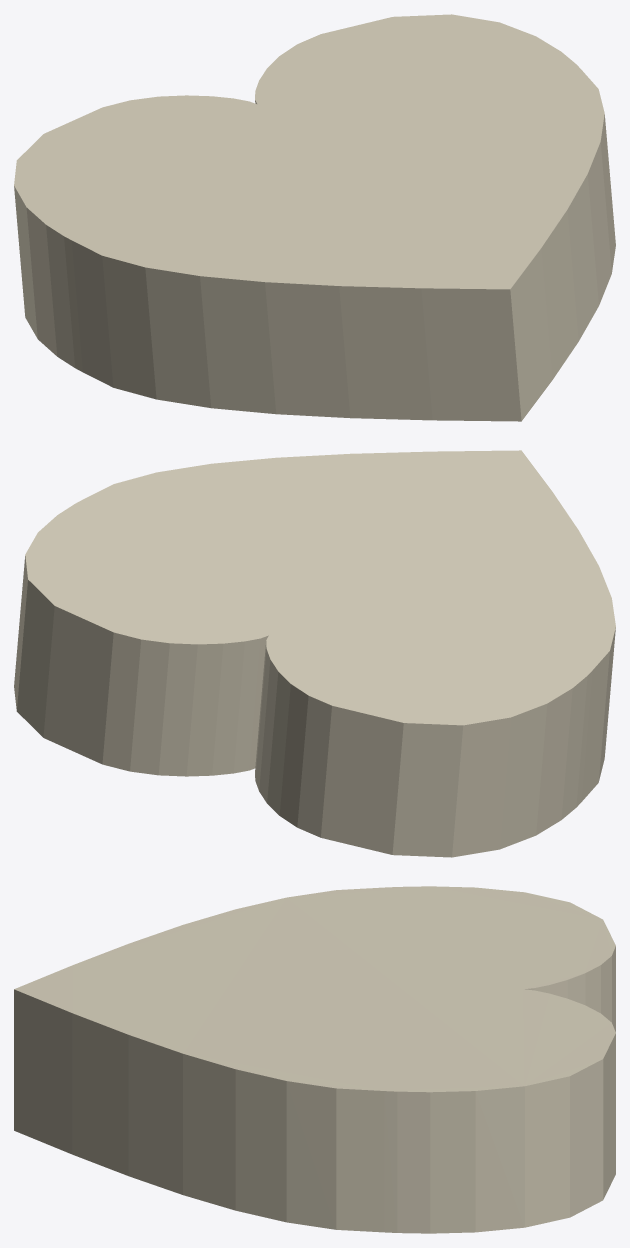
The model's file is VCV.glb.
The picture shows the model from 3 angles, top to bottom: view 1: azimuth 30°, elevation 25°; view 2: azimuth 150°, elevation 25°; view 3: azimuth 270°, elevation 25°; orthographic projection.
Visible parts, largest first — view 1: Mesh_Mesh_head_geo.001_lambert2SG.001; view 2: Mesh_Mesh_head_geo.001_lambert2SG.001; view 3: Mesh_Mesh_head_geo.001_lambert2SG.001.
Boxes of the visible parts, x1=… form: Mesh_Mesh_head_geo.001_lambert2SG.001: x1=14, y1=14, x2=615, y2=421; Mesh_Mesh_head_geo.001_lambert2SG.001: x1=14, y1=450, x2=615, y2=857; Mesh_Mesh_head_geo.001_lambert2SG.001: x1=14, y1=886, x2=615, y2=1233.
Bounding box in the file's own units: 0.0204 × 0.00672 × 0.02.
